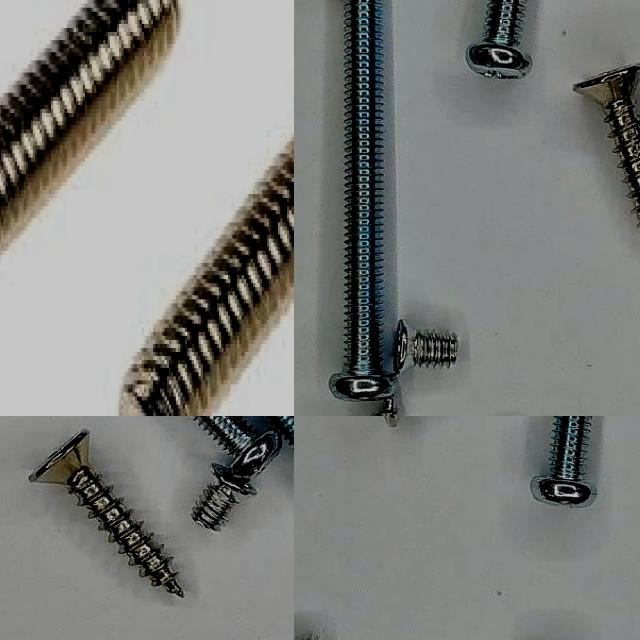Screw: (118, 139, 294, 416), (0, 0, 183, 256), (331, 0, 397, 400), (29, 432, 183, 598), (573, 62, 640, 221), (532, 416, 596, 506), (467, 0, 532, 78), (192, 464, 257, 531), (395, 321, 457, 372)
